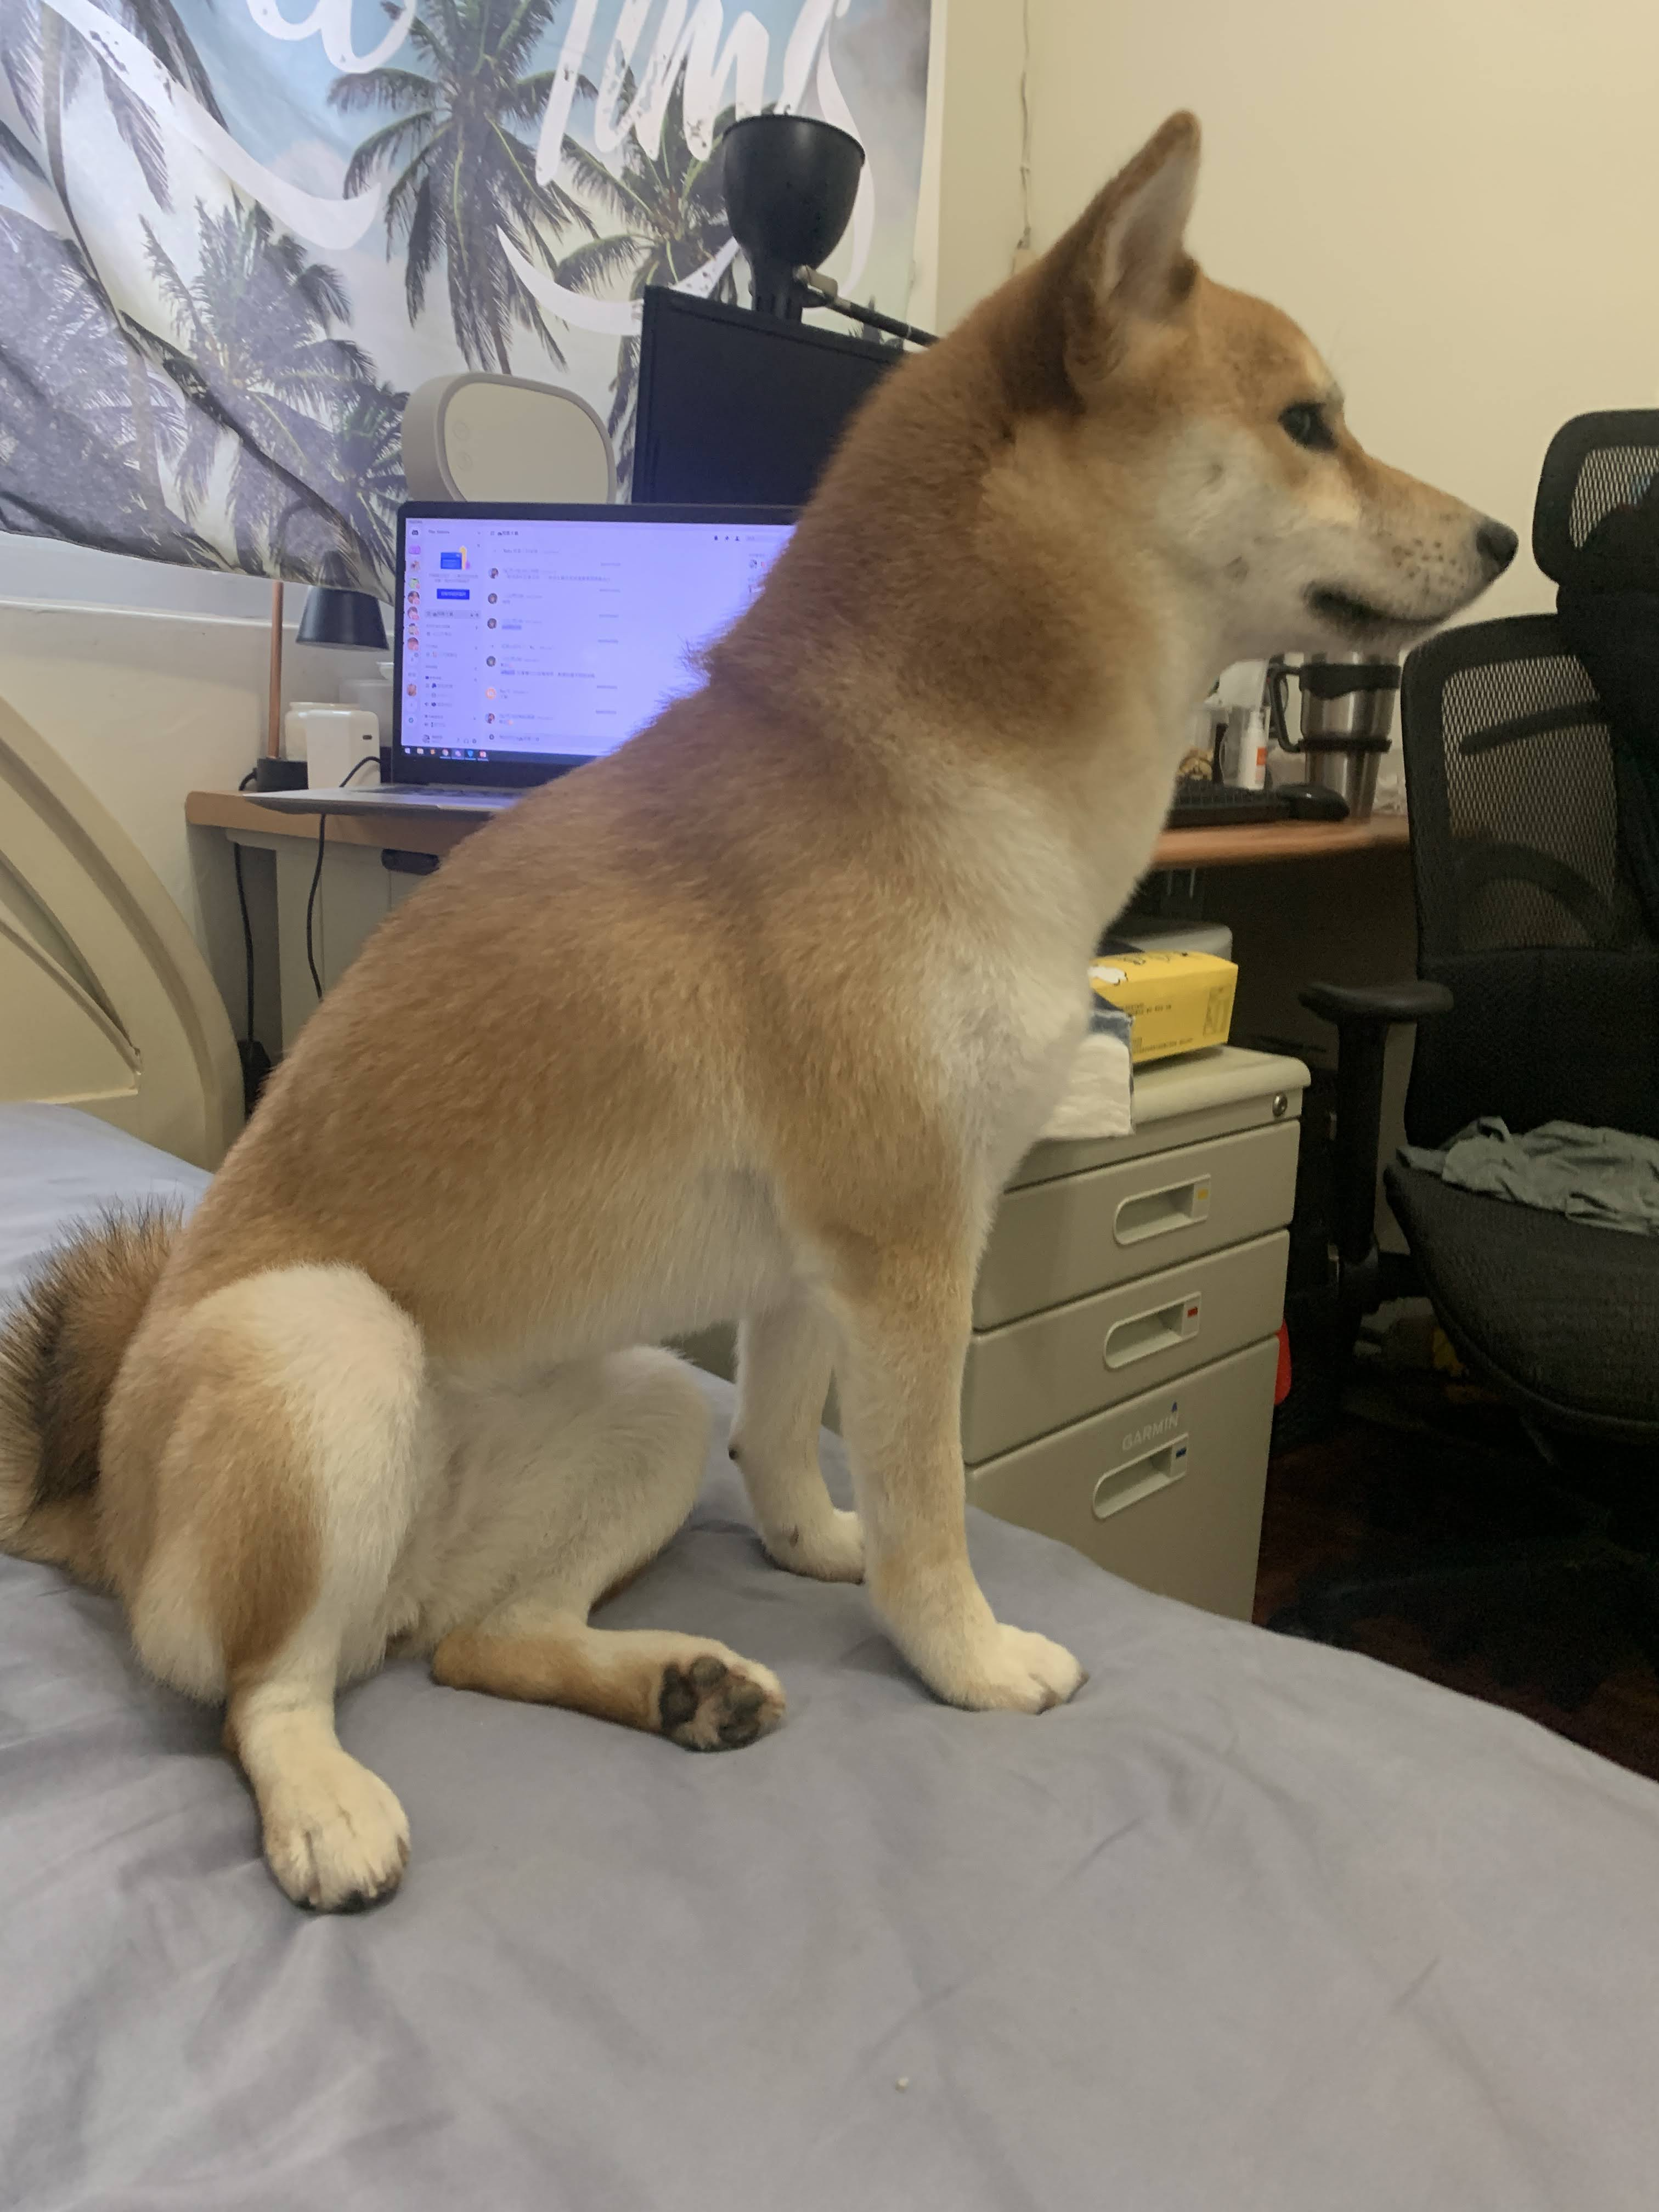Sit down: (31, 106, 1518, 1909)
